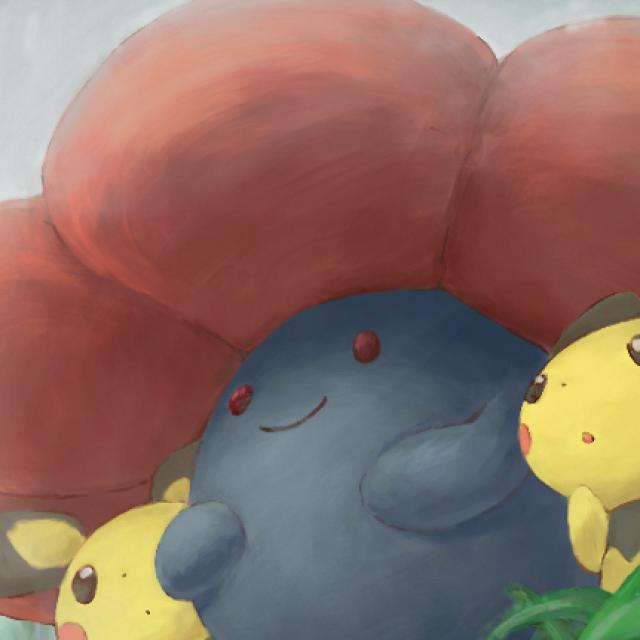Pikachu: (518, 308, 640, 598), (0, 484, 206, 640)
Vileplume: (167, 69, 556, 640)
